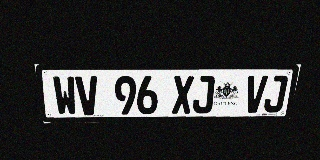6: (137, 76, 158, 114)
9: (114, 76, 137, 115)
J: (263, 75, 289, 112), (192, 76, 215, 113)
V: (75, 76, 100, 115), (243, 76, 268, 113)
W: (52, 76, 78, 115)
X: (172, 76, 194, 114)
